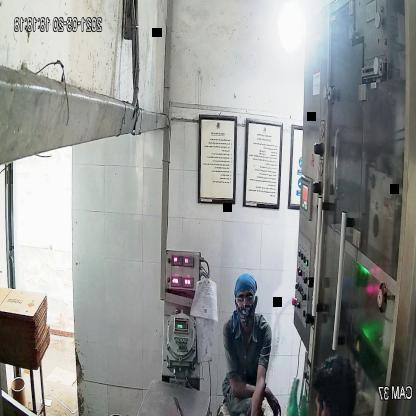goggles: (232, 289, 259, 311)
